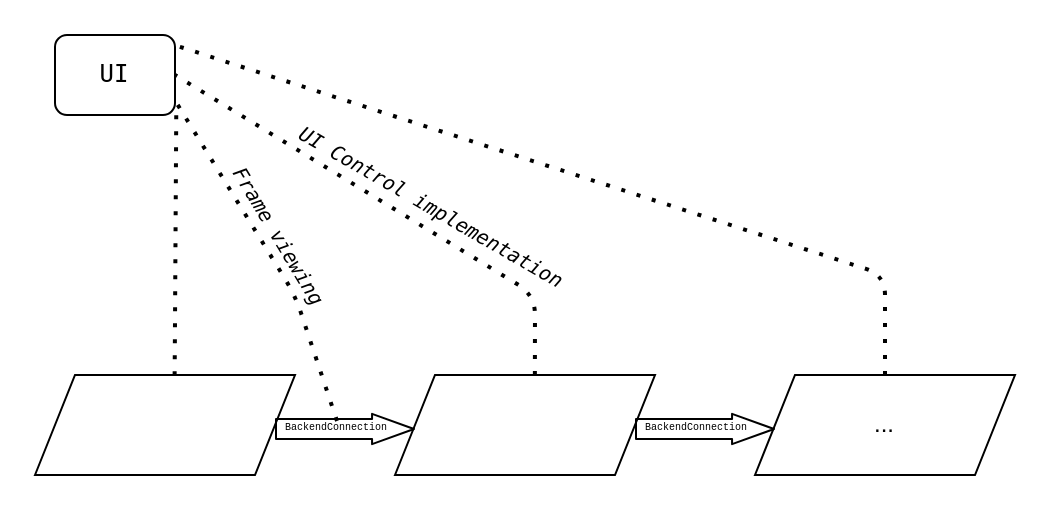
Image size: 1050x510. Some labels were removed from this diagram. The shapes that lost their labels are listed below. From the top down, each one's centre as x and y in pixels, then its label:
point (164, 424): CameraSource
point (524, 424): FaceDetector
